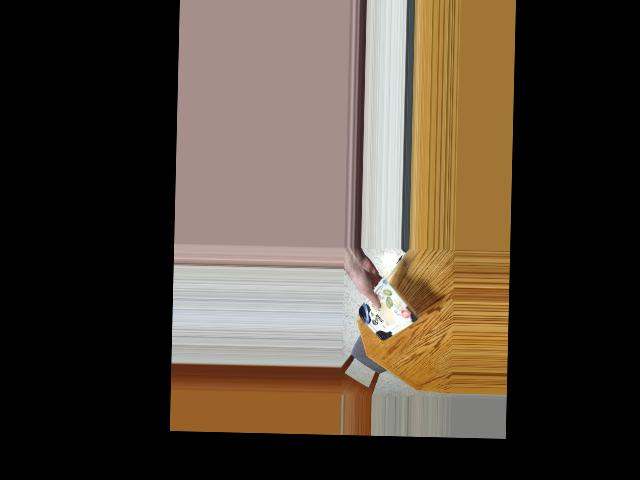cheese: (365, 282, 409, 339)
